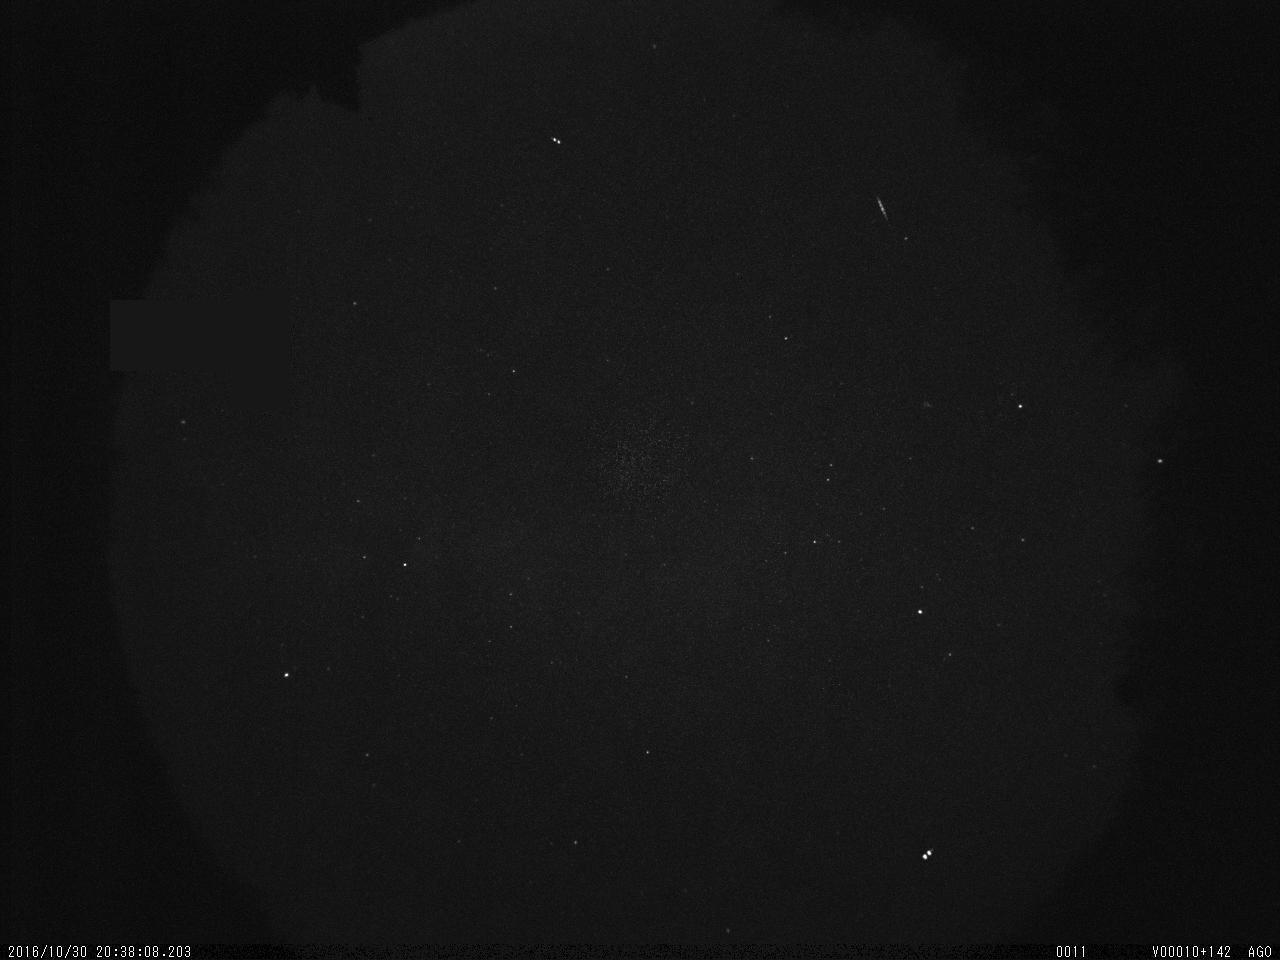meteor: (863, 182, 900, 230)
